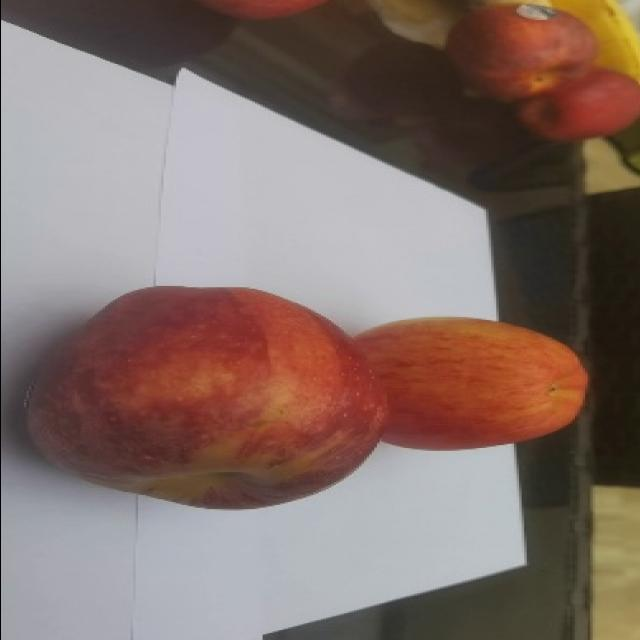Apple: (23, 284, 388, 510), (352, 315, 589, 451)
